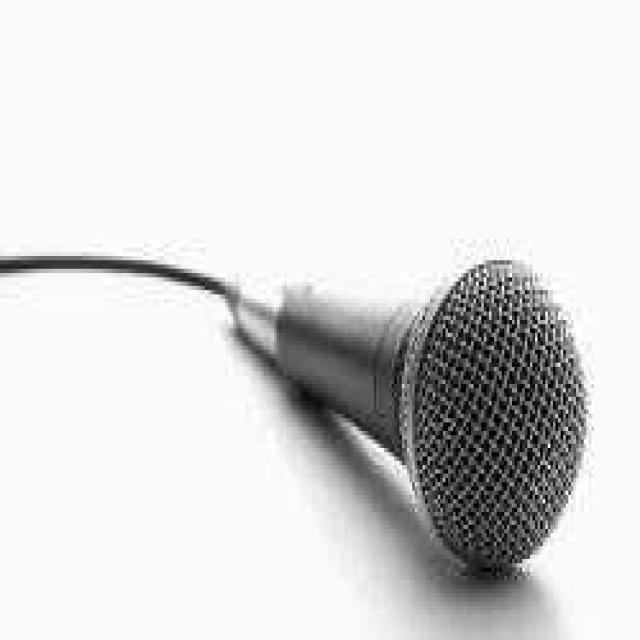microphone: (254, 250, 594, 576)
